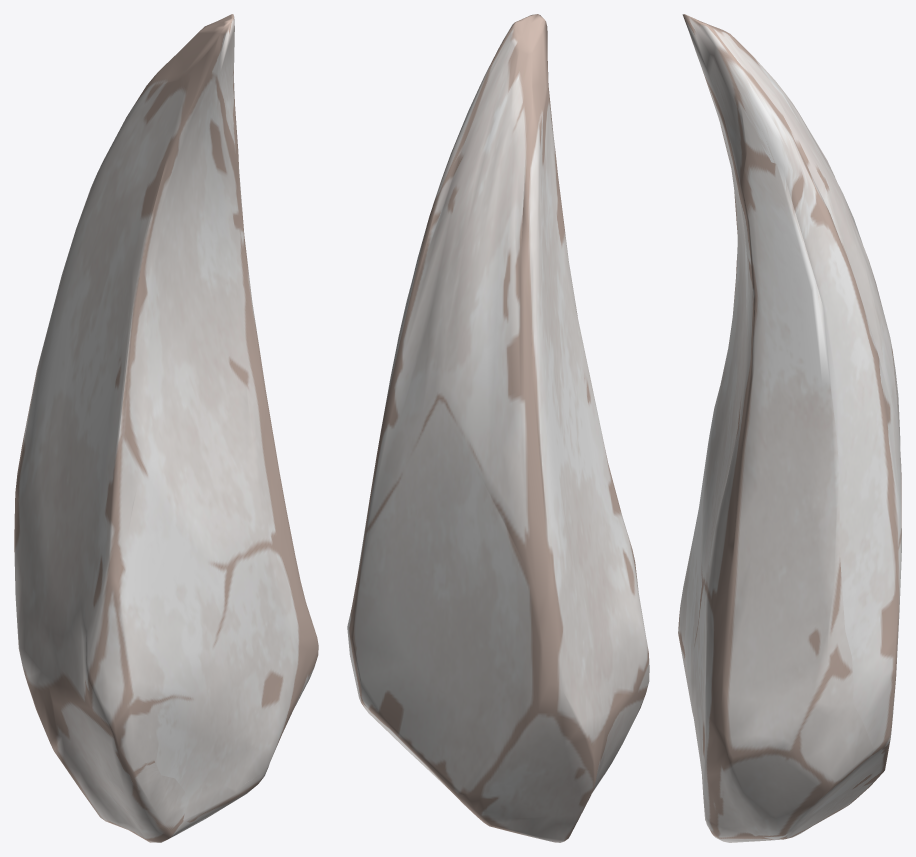
The model's file is Rock_2.FBX.
3 renders of one model, left to right at view 1: azimuth 30°, elevation 25°; view 2: azimuth 150°, elevation 25°; view 3: azimuth 270°, elevation 25°, orthographic. The views are drawn at different scales.
Visible parts, largest first — view 1: Rock_2; view 2: Rock_2; view 3: Rock_2.
Part boxes in pixels (left/top/right/bottom): Rock_2: left=14, top=14, right=318, bottom=842; Rock_2: left=347, top=14, right=649, bottom=842; Rock_2: left=678, top=14, right=901, bottom=842.
Bounding box in the file's own units: 56.21 × 176 × 42.18.
